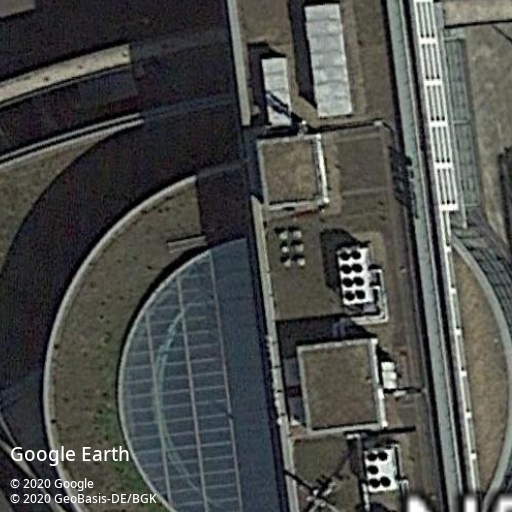Chiller: (337, 244, 374, 305), (364, 447, 397, 493)
